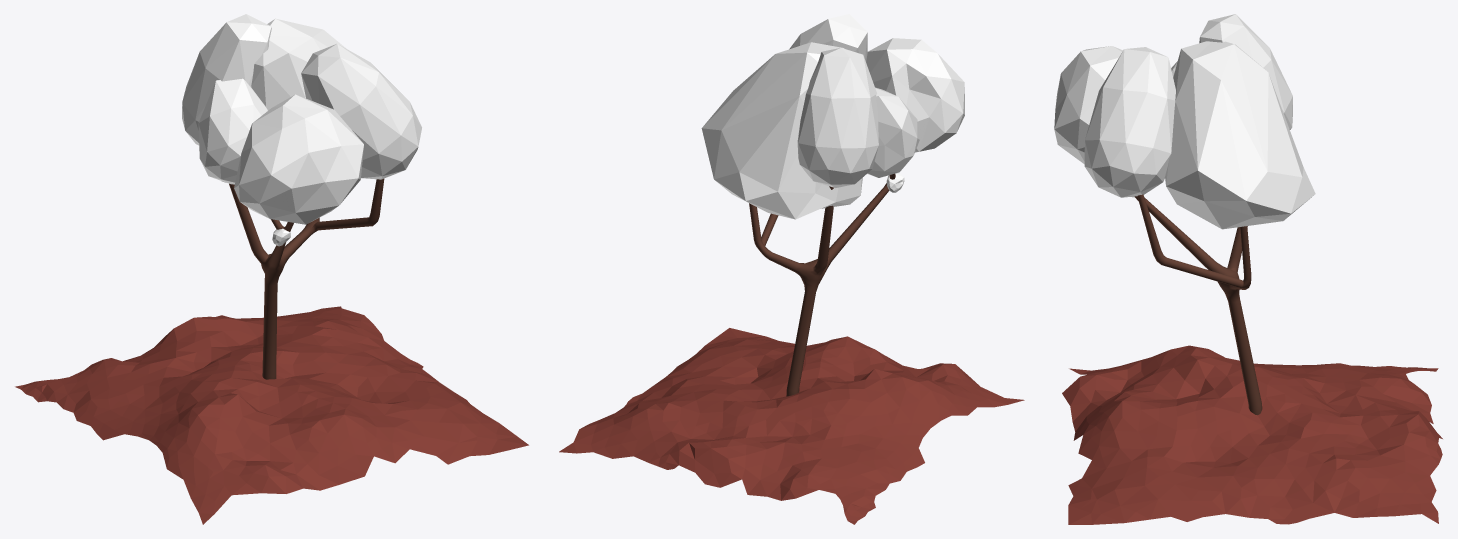
Rendered from lowpolytree.glb.
3 views of the same model, side by side, from view 1: azimuth 30°, elevation 25°; view 2: azimuth 150°, elevation 25°; view 3: azimuth 270°, elevation 25° (orthographic). The views are drawn at different scales.
Parts seen in each view (by area): view 1: Plane, Icosphere.002, Icosphere.004, Icosphere, Icosphere.001, Cube, Icosphere.003; view 2: Plane, Icosphere.003, Icosphere, Icosphere.002, Cube, Icosphere.001, Icosphere.004; view 3: Plane, Icosphere.003, Icosphere.004, Cube, Icosphere.002, Icosphere.
Part boxes in pixels (<box>): Plane: <box>15,306,528,524</box>; Icosphere.002: <box>234,94,363,224</box>; Icosphere.004: <box>301,43,421,179</box>; Icosphere: <box>182,14,271,145</box>; Icosphere.001: <box>198,78,267,184</box>; Cube: <box>229,178,384,379</box>; Icosphere.003: <box>221,18,346,184</box>; Plane: <box>559,328,1024,524</box>; Icosphere.003: <box>701,42,862,219</box>; Icosphere: <box>797,48,878,187</box>; Icosphere.002: <box>866,38,964,152</box>; Cube: <box>749,173,895,396</box>; Icosphere.001: <box>867,87,919,177</box>; Icosphere.004: <box>789,14,867,61</box>; Plane: <box>1062,345,1442,524</box>; Icosphere.003: <box>1165,41,1315,229</box>; Icosphere.004: <box>1084,47,1175,197</box>; Cube: <box>1134,194,1262,415</box>; Icosphere.002: <box>1054,46,1123,164</box>; Icosphere: <box>1199,14,1292,129</box>.
Size of the model in its own units: 7.21 by 8.73 by 7.57.
